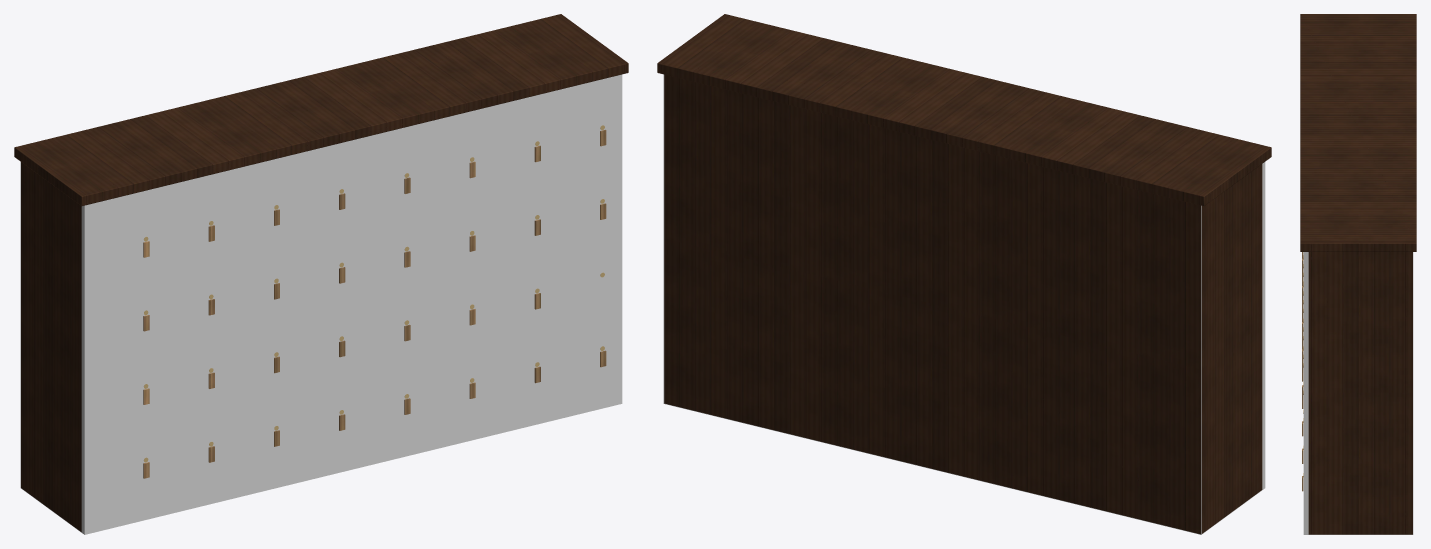
Rendered from locker_bank.mobile.glb.
3 views of the same model, side by side, from view 1: azimuth 30°, elevation 25°; view 2: azimuth 150°, elevation 25°; view 3: azimuth 270°, elevation 25° (orthographic). The views are drawn at different scales.
Visible parts, largest first — view 1: COL_Bank, LockerBank; view 2: LockerBank, COL_Bank; view 3: LockerBank, COL_Bank.
Part boxes in pixels (x1,y1,x2,y2): COL_Bank: [20, 74, 622, 534]; LockerBank: [14, 14, 628, 531]; LockerBank: [657, 14, 1271, 534]; COL_Bank: [663, 74, 1265, 534]; LockerBank: [1300, 14, 1416, 534]; COL_Bank: [1303, 252, 1413, 534].
Bounding box in the file's own units: 3.46 × 2.06 × 0.74.
5 materials, 3 textured.
